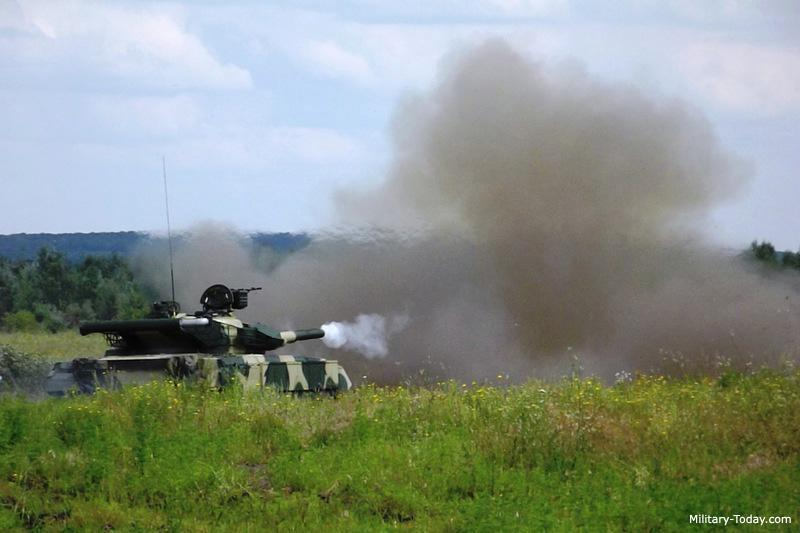tank: (40, 282, 356, 397)
